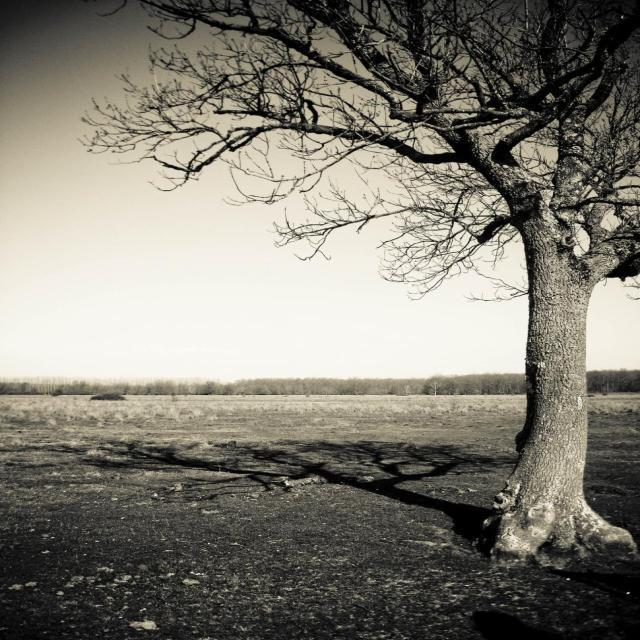tree: (74, 1, 640, 558)
